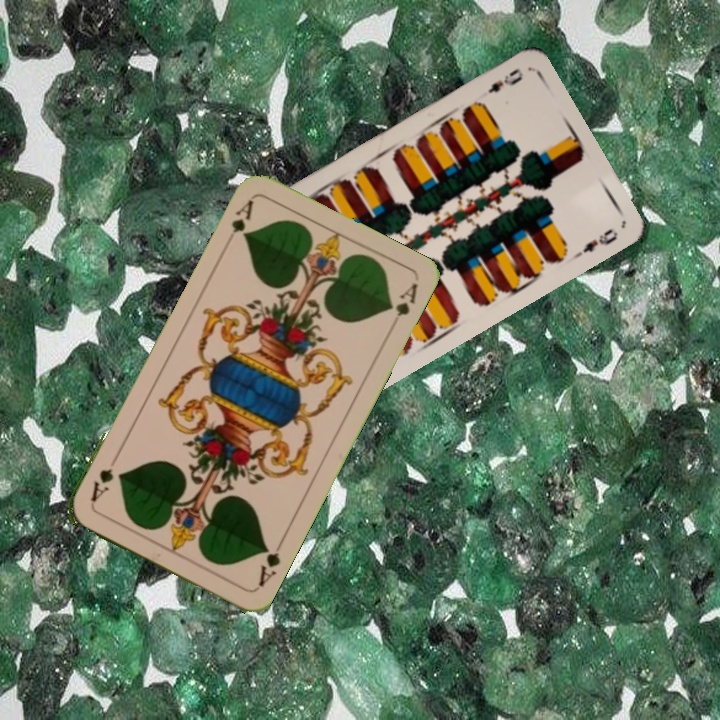E9: (483, 64, 526, 96)
GA: (253, 536, 286, 590), (227, 195, 257, 236)
